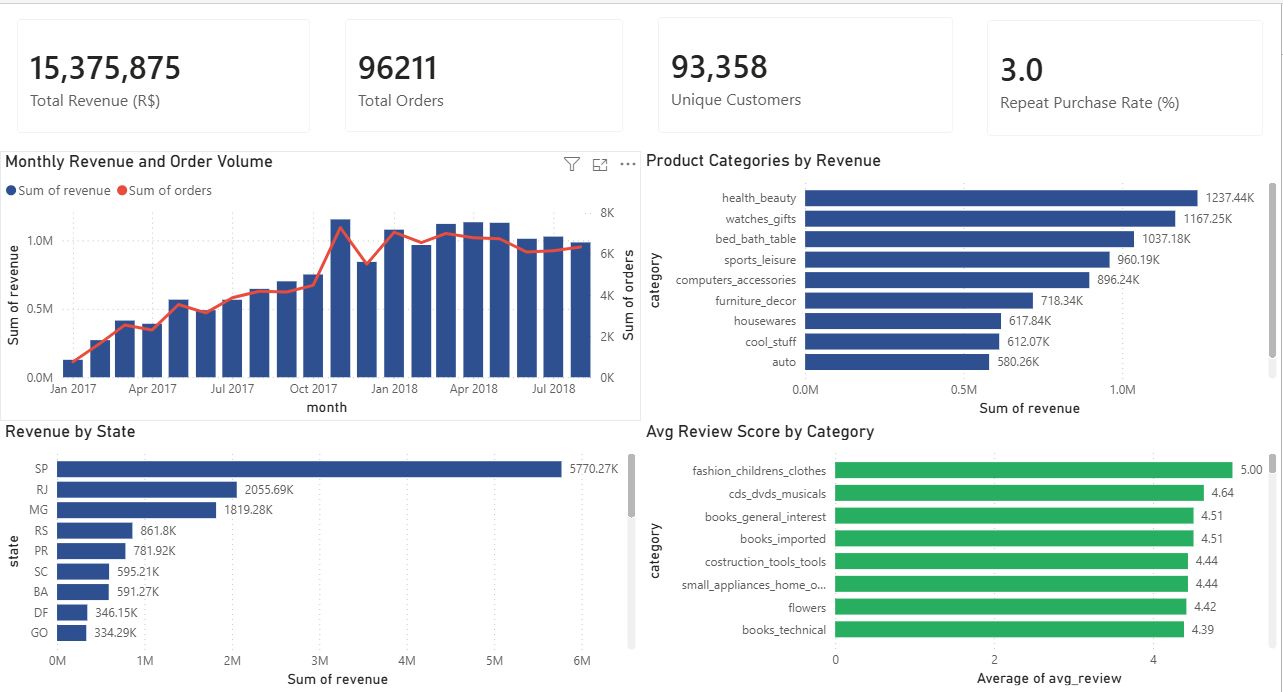

What the dashboard file says about the page in this screenshot:
{"tool":"powerbi","page":{"name":"Sales Overview","canvas":[1280,720],"ordinal":0},"visuals":[{"type":"cardVisual","fields":{"Data":["Sum(olist_monthly_revenue.revenue)"]},"box":[0,31.1,327.8,148.8],"z":0},{"type":"cardVisual","fields":{"Data":["Sum(olist_monthly_revenue.orders)"]},"box":[327.8,31.1,312.2,147.8],"z":1},{"type":"cardVisual","fields":{"Data":["Count(olist_customers_rfm.customer_unique_id)"]},"box":[640,29.2,329.7,150.8],"z":2},{"type":"cardVisual","fields":{"Data":["olist_customers_rfm.Repeat Rate"]},"box":[969.7,32.1,310.3,150.8],"z":3},{"type":"lineClusteredColumnComboChart","title":"Monthly Revenue and Order Volume","fields":{"Y":["Sum(olist_monthly_revenue.revenue)"],"Y2":["Sum(olist_monthly_revenue.orders)"],"Category":["olist_monthly_revenue.month"]},"box":[0,179.9,640,269.4],"z":4},{"type":"clusteredBarChart","title":"Product Categories by Revenue","fields":{"Category":["olist_categories.category"],"Y":["Sum(olist_categories.revenue)"]},"box":[640,179,640,270.4],"z":5},{"type":"clusteredBarChart","title":"Revenue by State","fields":{"Category":["olist_states.state"],"Y":["Sum(olist_states.revenue)"]},"box":[0,449.4,640,270.4],"z":6},{"type":"clusteredBarChart","title":"Avg Review Score by Category","fields":{"Category":["olist_categories.category"],"Y":["Avg(olist_categories.avg_review)"]},"box":[640,449.4,640,269.4],"z":7}]}

Visuals, with their boxes on the page's 1280x720 design canvas (x1, y1, x2, y2). These are canvas units, not pixel positions in the 1283x692 screenshot, which may show the page scaled, cropped or inside an application window:
cardVisual - Sum(olist_monthly_revenue.revenue): [x1=0, y1=31, x2=328, y2=180]
cardVisual - Sum(olist_monthly_revenue.orders): [x1=328, y1=31, x2=640, y2=179]
cardVisual - Count(olist_customers_rfm.customer_unique_id): [x1=640, y1=29, x2=970, y2=180]
cardVisual - olist_customers_rfm.Repeat Rate: [x1=970, y1=32, x2=1280, y2=183]
"Monthly Revenue and Order Volume" lineClusteredColumnComboChart: [x1=0, y1=180, x2=640, y2=449]
"Product Categories by Revenue" clusteredBarChart: [x1=640, y1=179, x2=1280, y2=449]
"Revenue by State" clusteredBarChart: [x1=0, y1=449, x2=640, y2=720]
"Avg Review Score by Category" clusteredBarChart: [x1=640, y1=449, x2=1280, y2=719]
